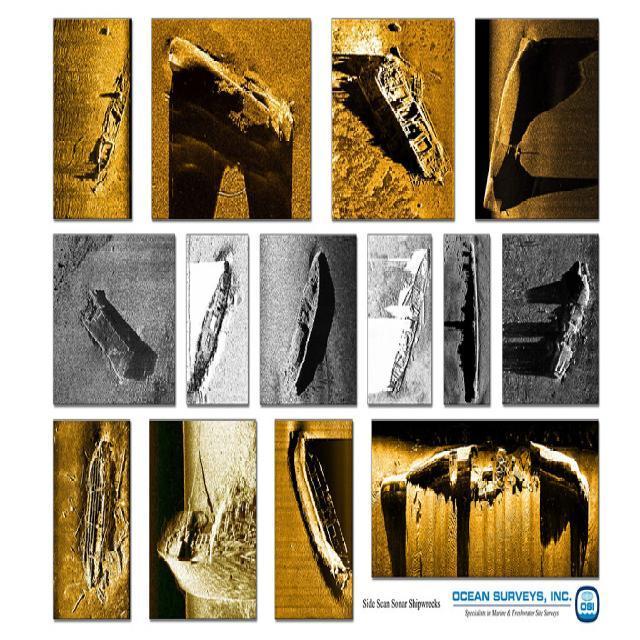shipwreck: (380, 428, 589, 544), (167, 36, 295, 144), (357, 46, 450, 188), (154, 480, 255, 602), (290, 426, 350, 594), (482, 40, 534, 212), (186, 251, 236, 396), (282, 248, 330, 396), (388, 245, 432, 394), (78, 281, 134, 383), (80, 436, 114, 596), (550, 260, 592, 382), (92, 53, 128, 191), (460, 240, 482, 404)
